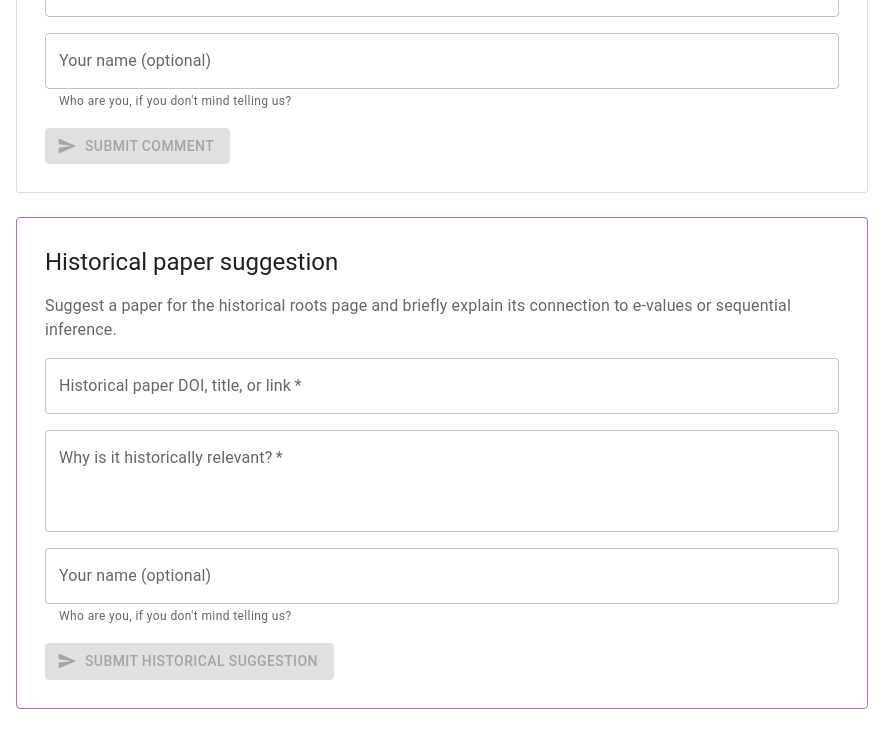
SubmitPage › submits a historical paper with its relevance note
(page scrolled)
Step 1. Type "10.1000/historical-example" into the field labelled "Historical paper DOI, title, or link *" → [442, 386], box [45, 358, 839, 414]
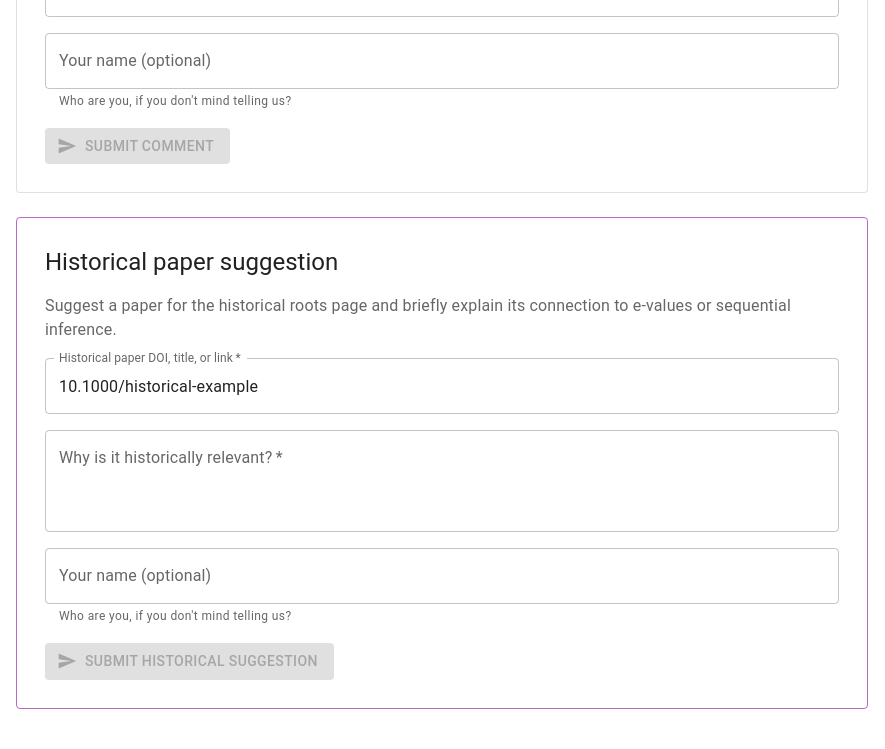
Step 2. Type "This paper introduced a martingale argument used by later e-processes." into the text box labelled "Why is it historically relevant? *" → [442, 481], box [59, 447, 825, 516]
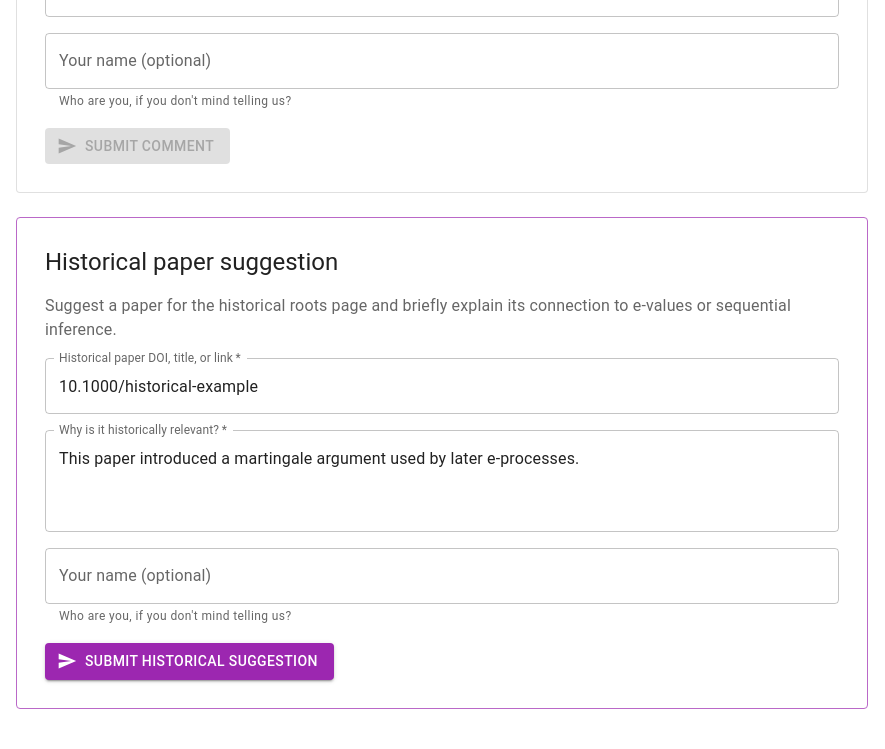
Step 3. Click the button "Submit historical suggestion" → [189, 661], box [45, 643, 334, 680]
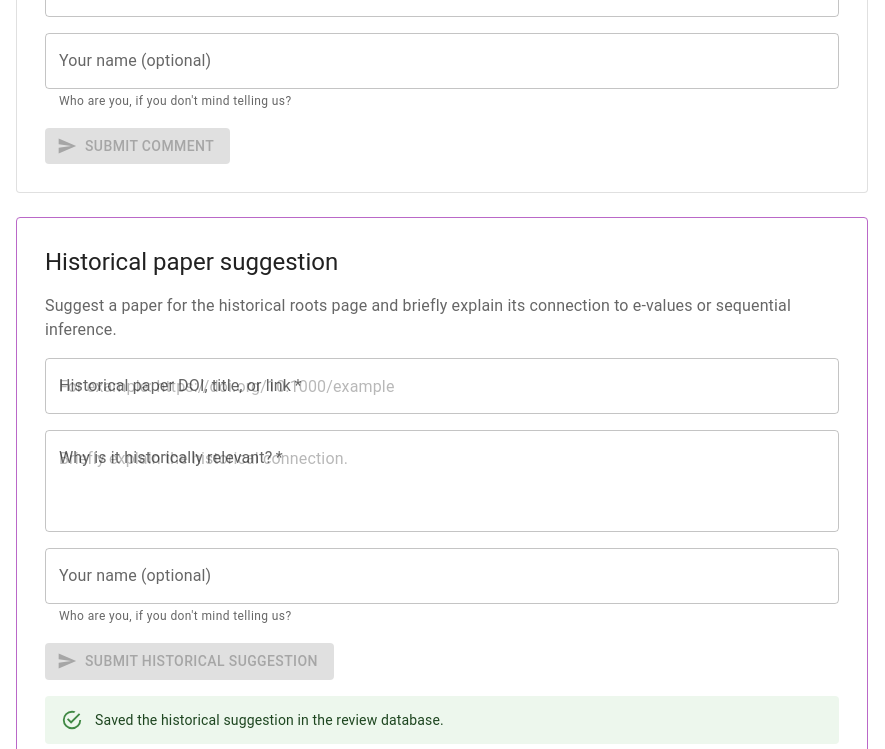
Result: the text "Saved the historical suggestion in the review database." is shown at [95, 712, 444, 728]
